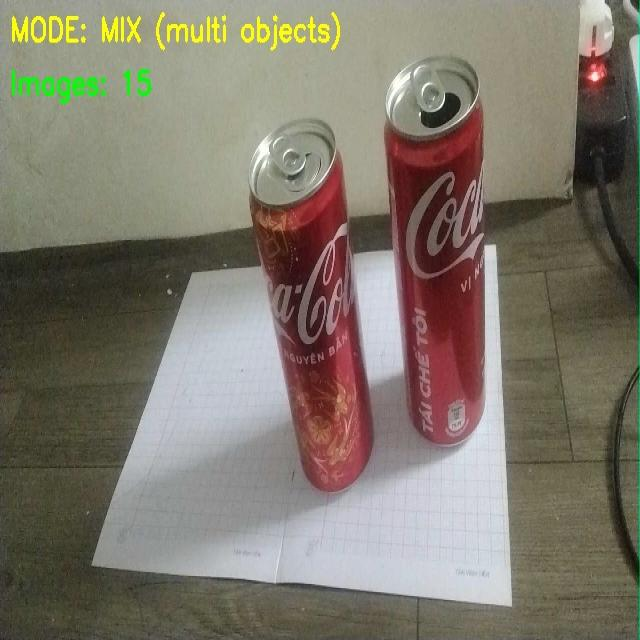Coca: (236, 104, 382, 505)
Coca_open: (384, 56, 522, 462)
